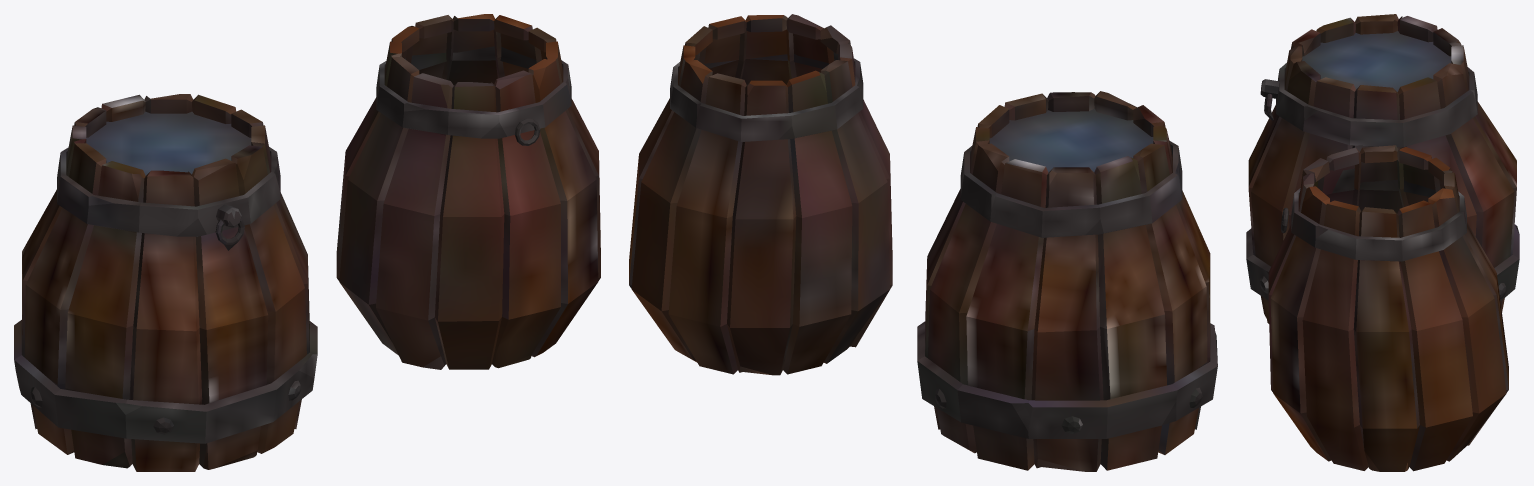
The model's file is water barrel.fbx.
3 renders of one model, left to right at view 1: azimuth 30°, elevation 25°; view 2: azimuth 150°, elevation 25°; view 3: azimuth 270°, elevation 25°, orthographic. The views are drawn at different scales.
Visible parts, largest first — view 1: water barrel, water barrel.001; view 2: water barrel, water barrel.001; view 3: water barrel.001, water barrel.
Part boxes in pixels (x1,y1,x2,y2): water barrel: (14,94,317,471); water barrel.001: (336,14,600,369); water barrel: (917,91,1217,471); water barrel.001: (629,14,892,375); water barrel.001: (1268,145,1508,471); water barrel: (1246,14,1519,323).
Bounding box in the file's own units: 80.65 × 41.23 × 38.2.
